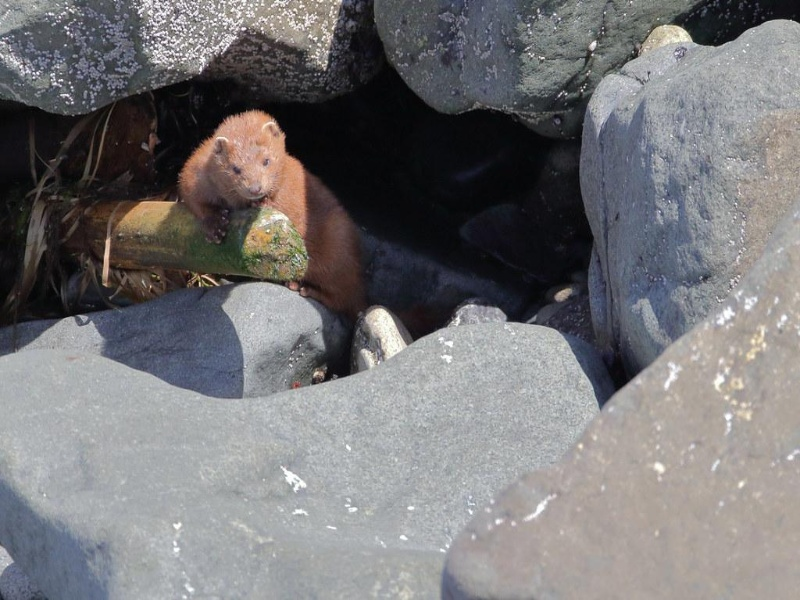minkish: (178, 108, 372, 312)
